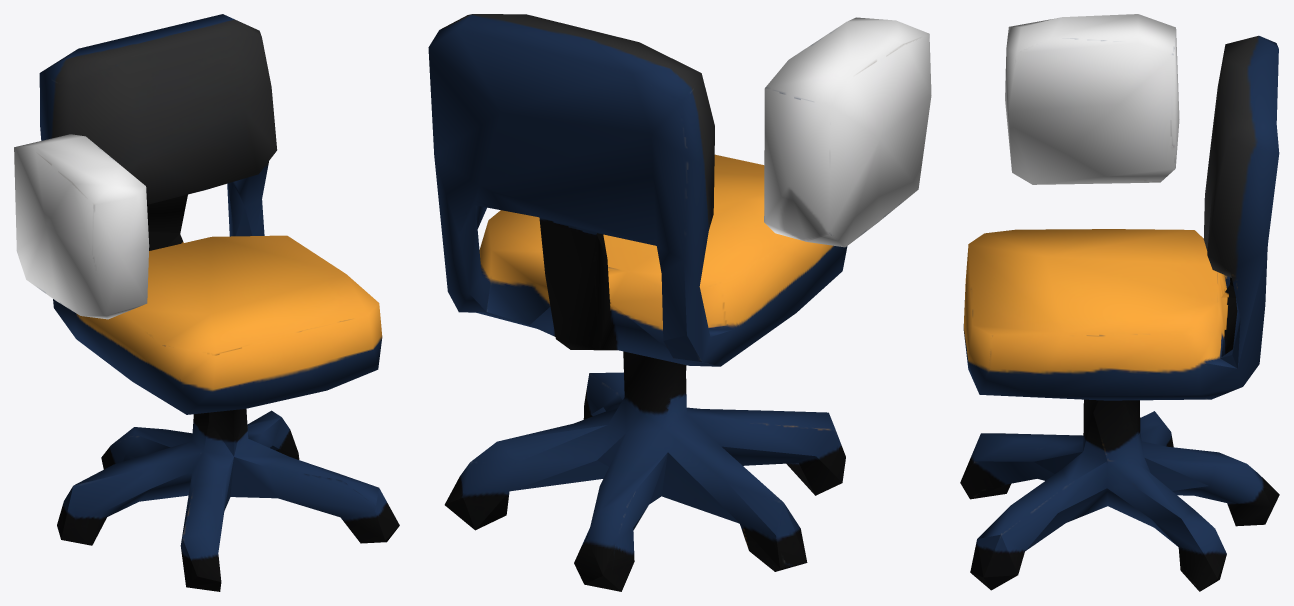
File: office-chair.glb
3 renders of one model, left to right at view 1: azimuth 30°, elevation 25°; view 2: azimuth 150°, elevation 25°; view 3: azimuth 270°, elevation 25°, orthographic. The views are drawn at different scales.
Parts seen in each view (by area): view 1: geometry_0.001; view 2: geometry_0.001; view 3: geometry_0.001.
Boxes of the visible parts, x1=… form: geometry_0.001: x1=14, y1=14, x2=399, y2=591; geometry_0.001: x1=428, y1=14, x2=931, y2=591; geometry_0.001: x1=960, y1=14, x2=1279, y2=591.
Bounding box in the file's own units: 0.7116 × 0.997 × 0.6265.
1 material, 1 textured.
